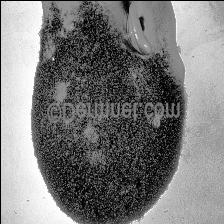Toxin: (86, 125, 106, 167), (60, 12, 78, 36), (52, 77, 68, 100), (42, 38, 53, 60), (128, 66, 140, 86), (150, 112, 162, 128)
